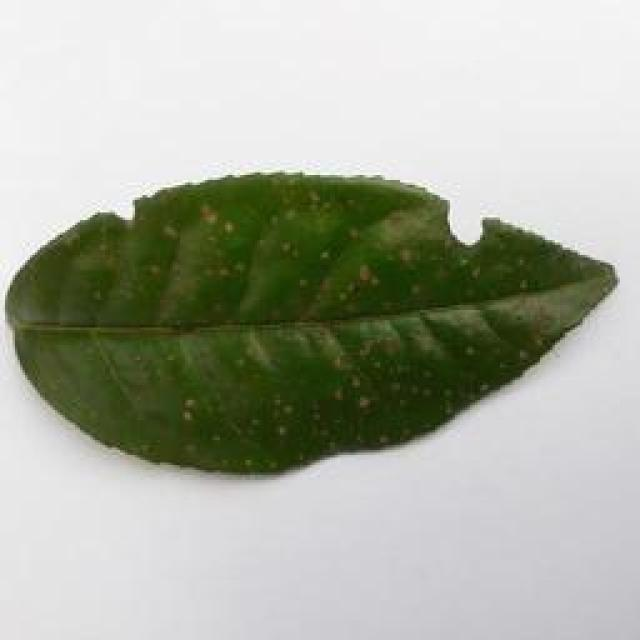Algal Leaf Spot: (10, 164, 616, 484)
